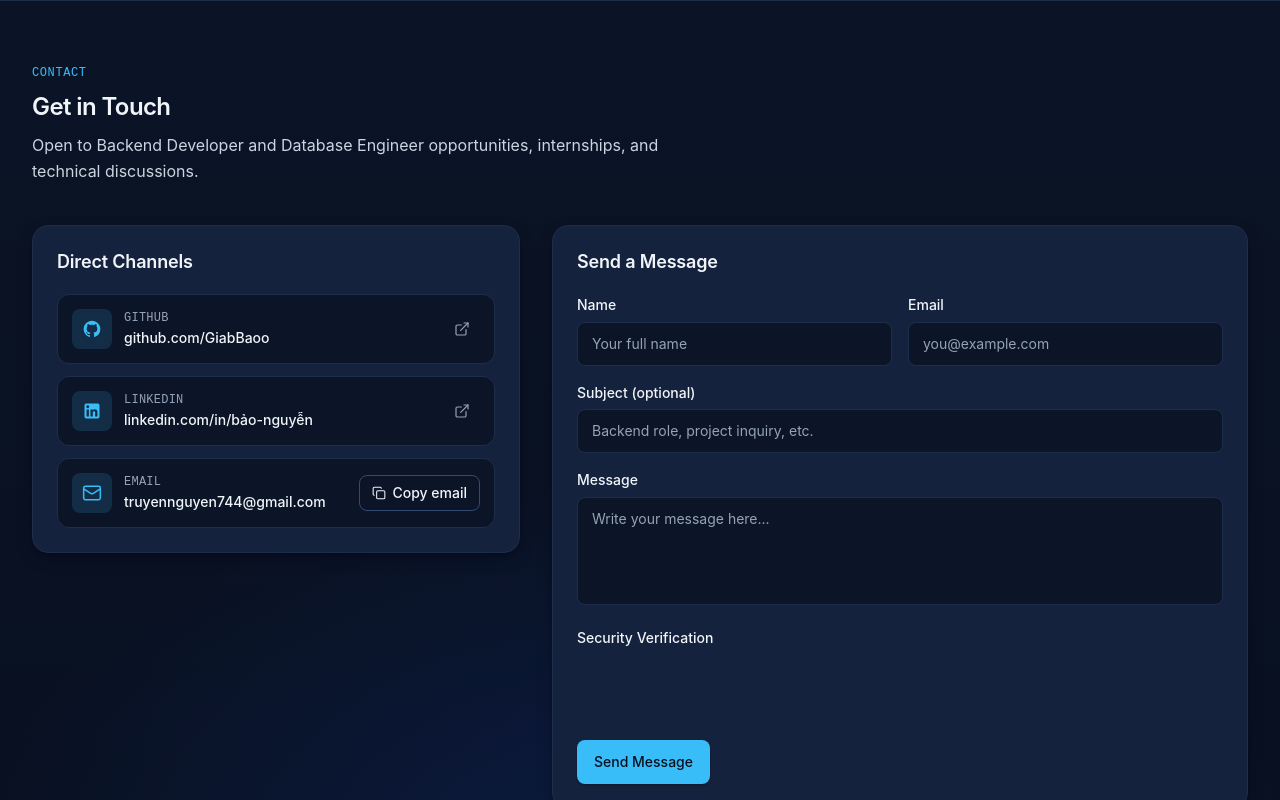
it: ContactSection & contact-api integration › handles HTTP 415 (UNSUPPORTED_MEDIA_TYPE): resets Turnstile=false and preserves user input
This screenshot has width=1280, height=800.
In the field labelled "Name": [734, 343] box [577,322,892,365], type "Nguyen Van A"
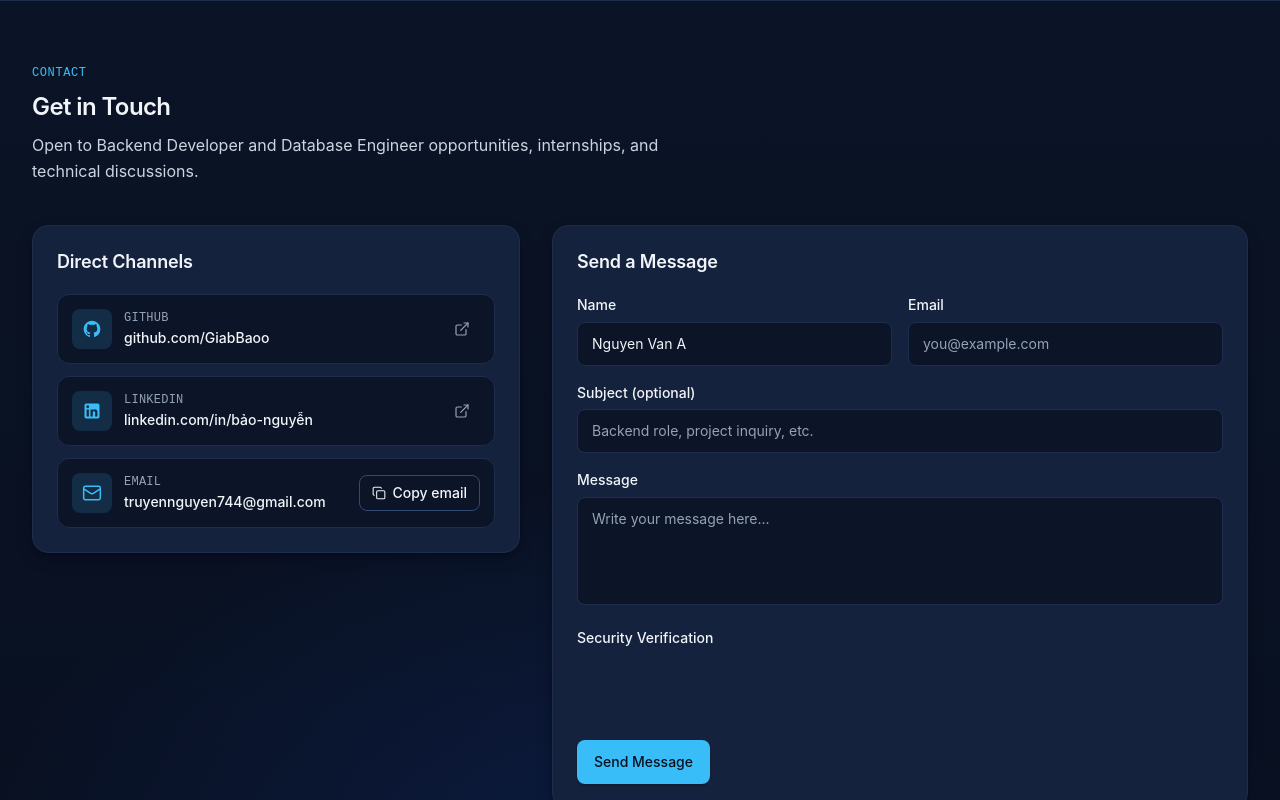
In the field labelled "Email": [1066, 343] box [908,322,1223,365], type "user@example.com"
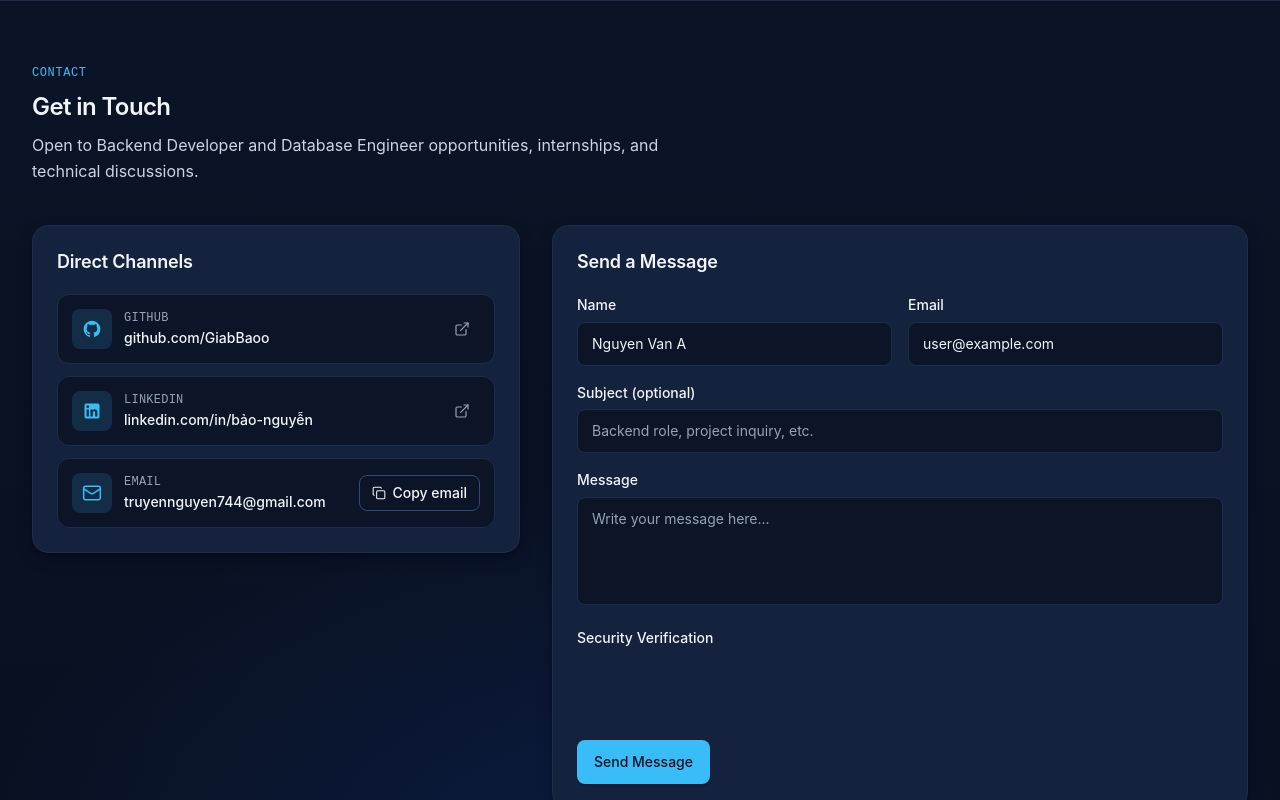
In the field labelled "Subject (optional)": [900, 431] box [577,409,1223,453], type "Backend opportunity"
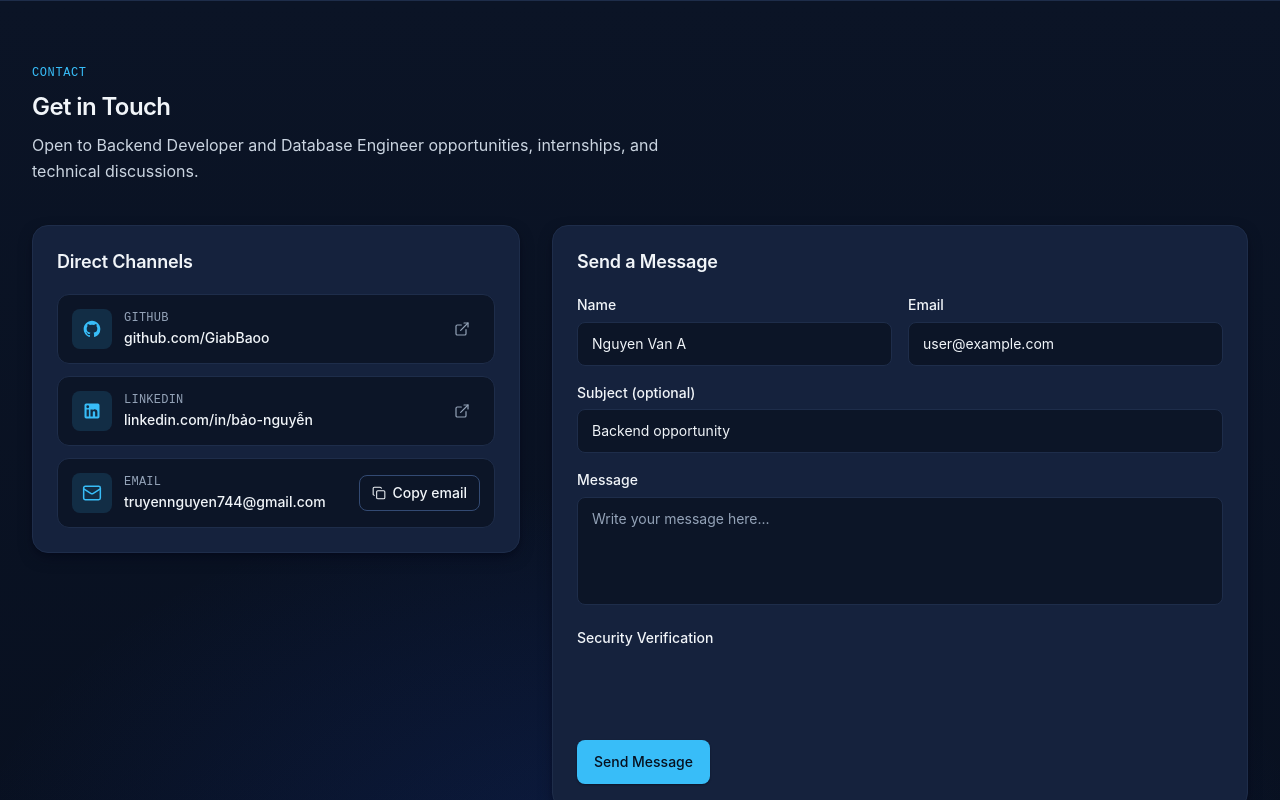
In the text box labelled "Message": [900, 551] box [577,496,1223,605], type "Hello Gia Bao, I would like to discuss a backend engineering role."
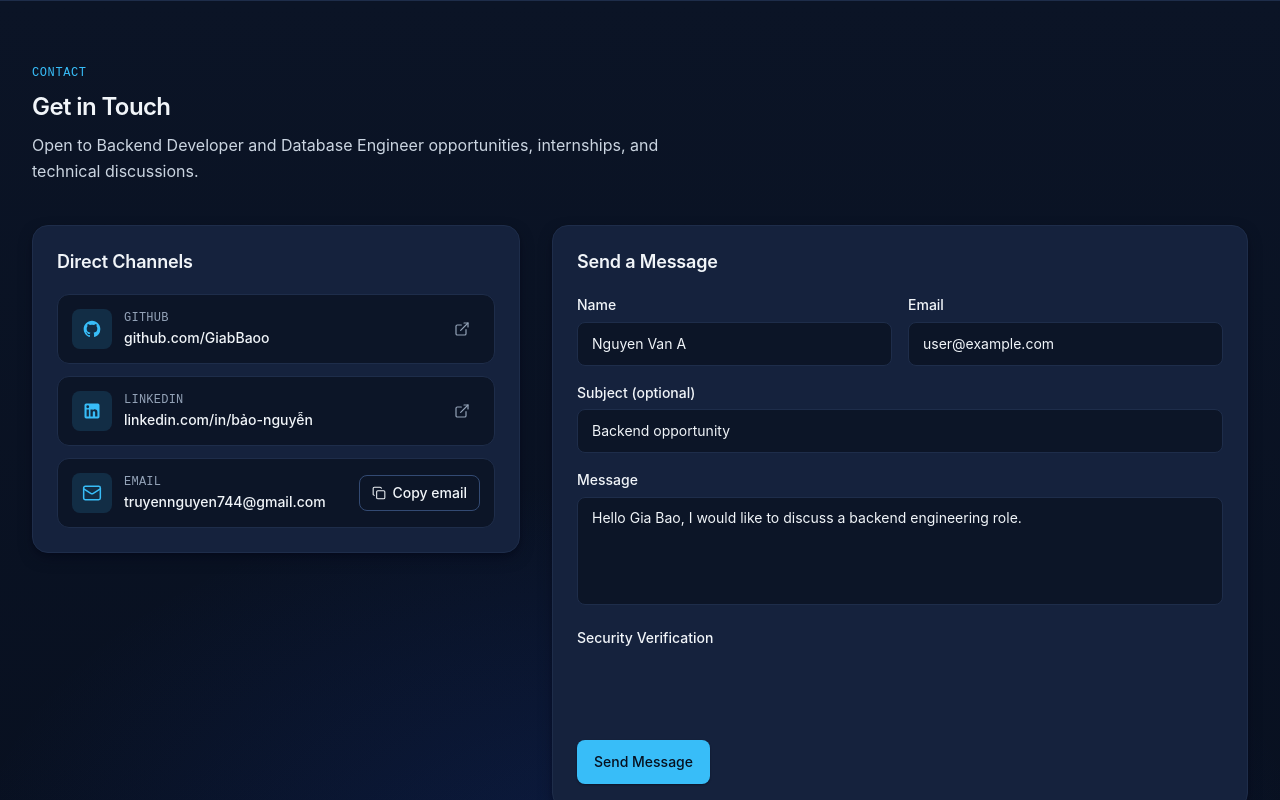
Click the button "Send Message": [644, 762] box [577,740,710,784]
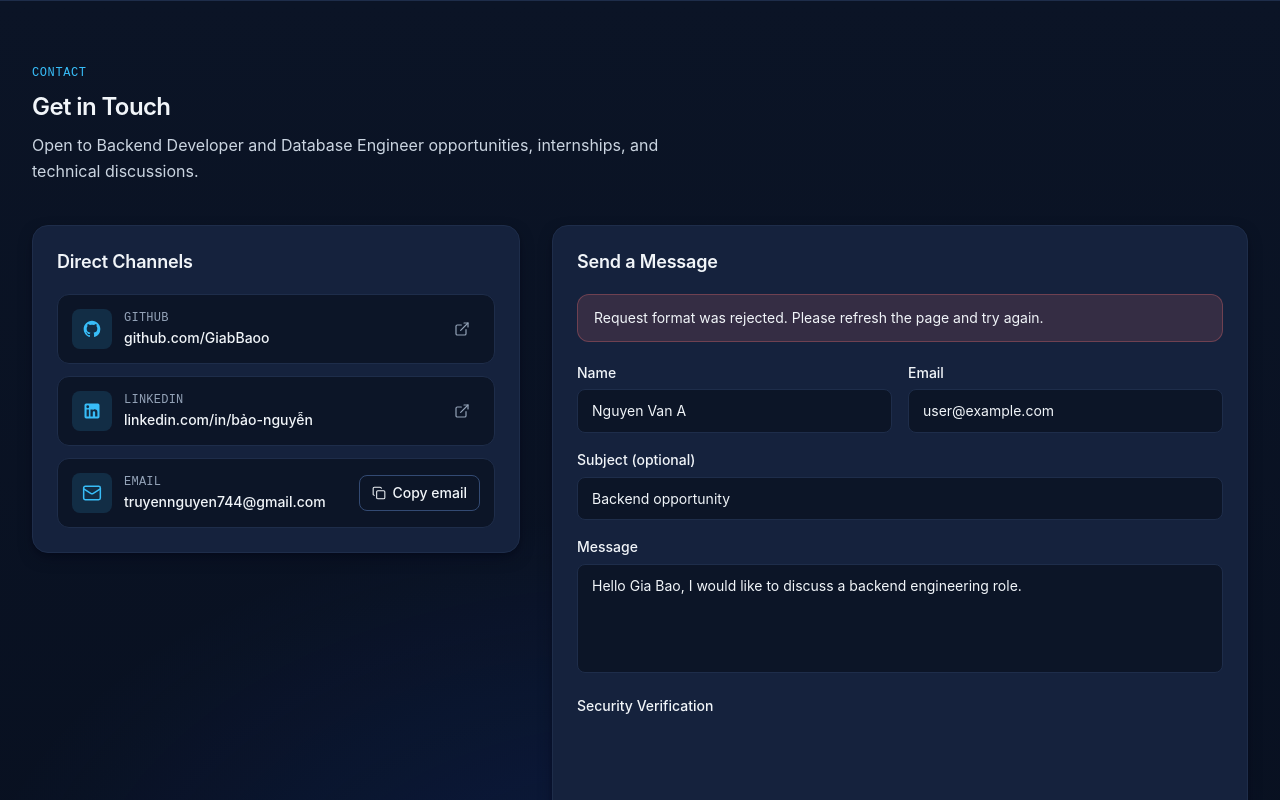
Result: the text "Request format was rejected. Please refresh the page and try again." is shown at [577,294,1223,342]
